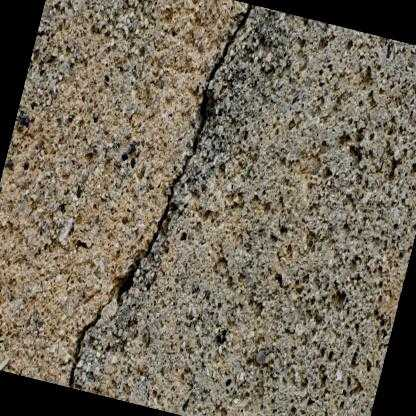crack: (68, 3, 254, 389)
